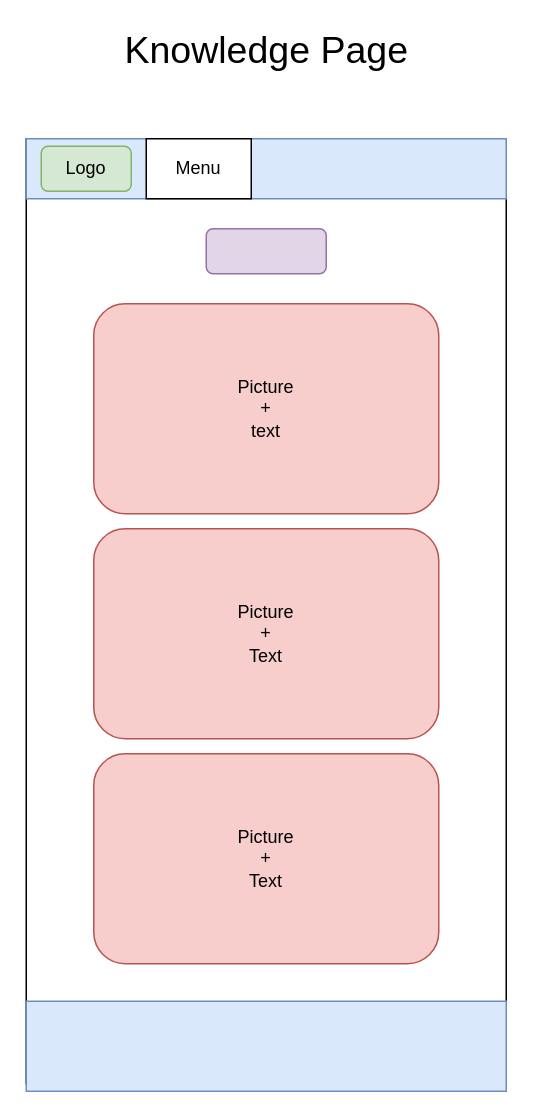
The diagram is 533 pixels wide and 1118 high, and some of its shapes have lost their labels. Each missing label, with the centre of its shape:
"Footer" goes at point (265, 1045).
"Knowledge" goes at point (265, 250).
